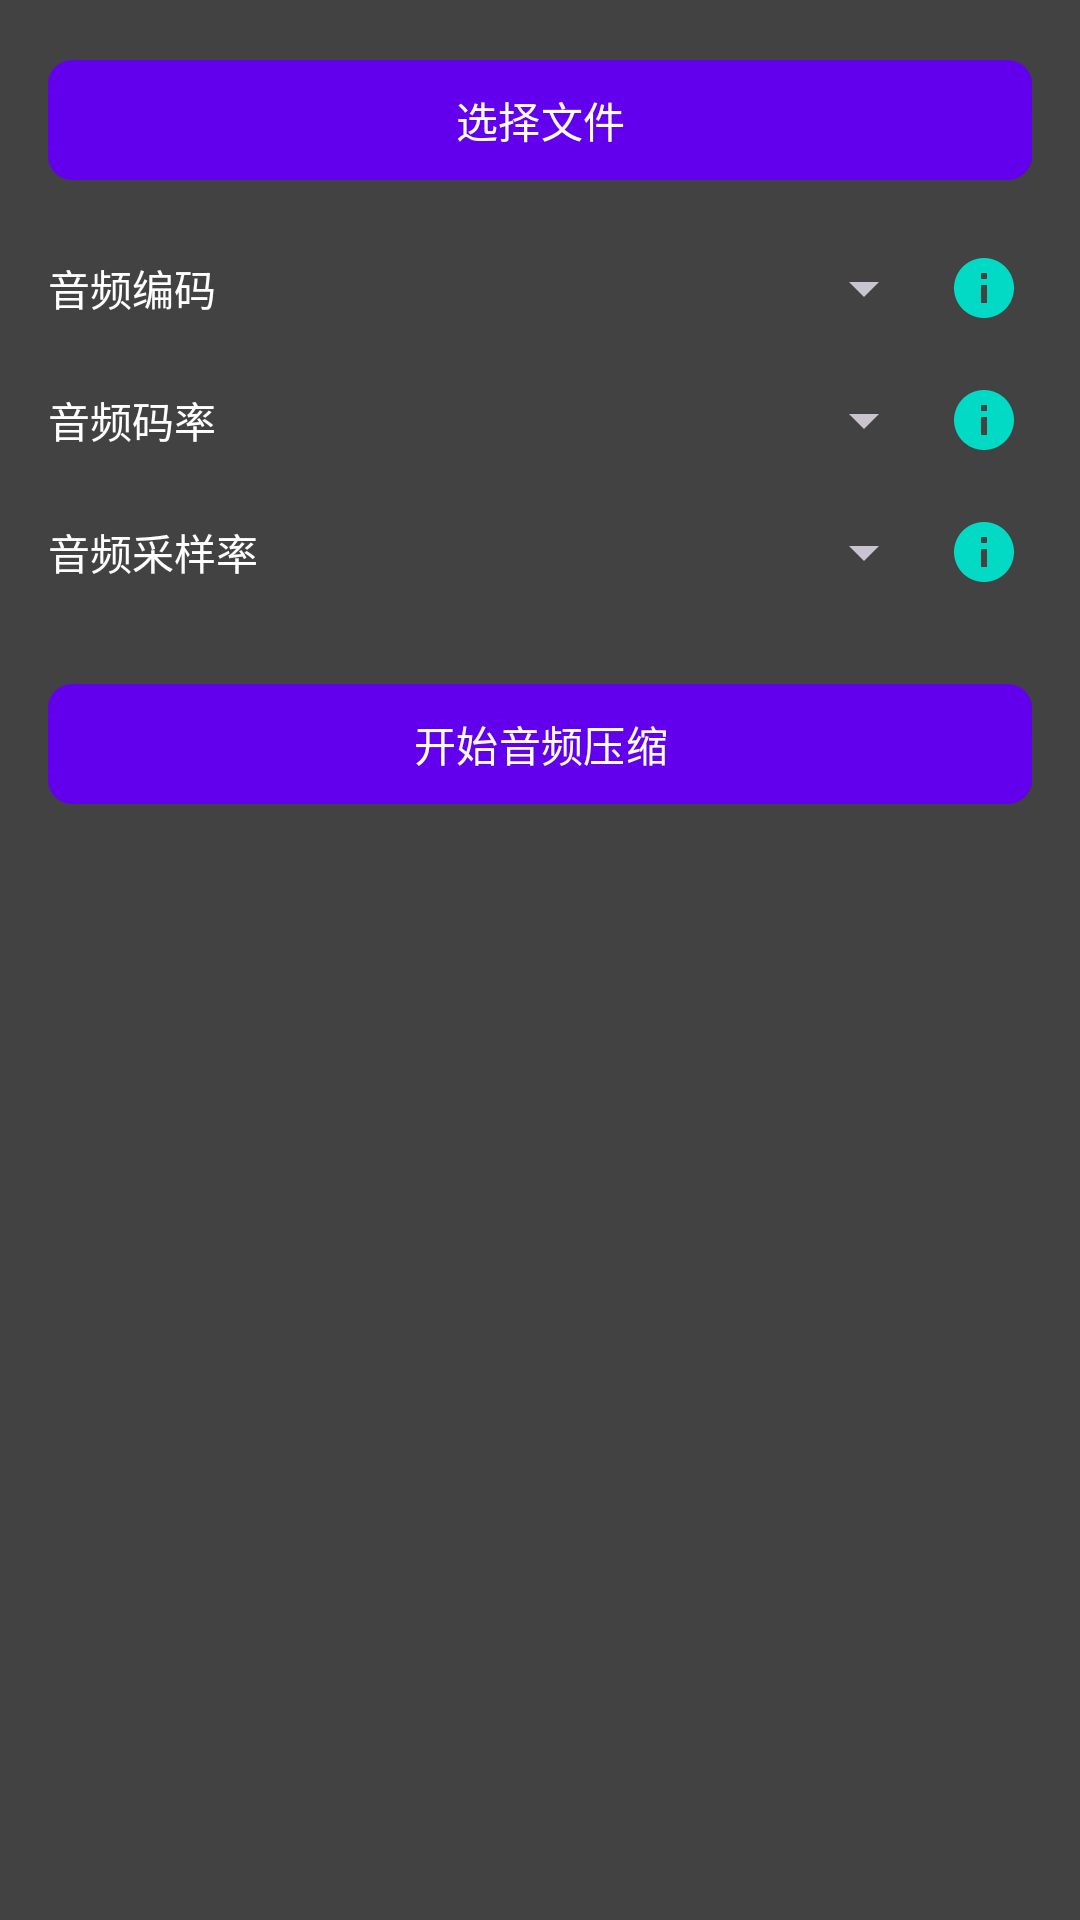

Where icons sit on this 1080w x 1920h app screen, as box=[x1, y1, x2, y2]:
info: box=[954, 258, 1014, 318], box=[954, 390, 1014, 450], box=[954, 522, 1014, 582]
